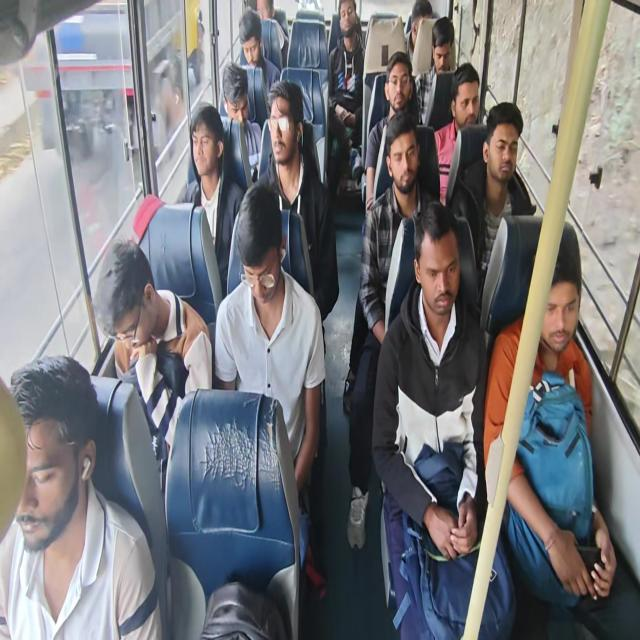person: (2, 1, 636, 638), (483, 219, 639, 638), (371, 200, 516, 638), (0, 354, 163, 638), (214, 181, 326, 584), (344, 111, 440, 550), (92, 237, 212, 491), (256, 79, 339, 325), (452, 100, 536, 310), (177, 103, 245, 298), (363, 50, 420, 216), (326, 0, 365, 193), (433, 62, 480, 206), (220, 61, 262, 178), (414, 16, 456, 124), (238, 7, 280, 98), (255, 0, 289, 70), (406, 0, 432, 64)
